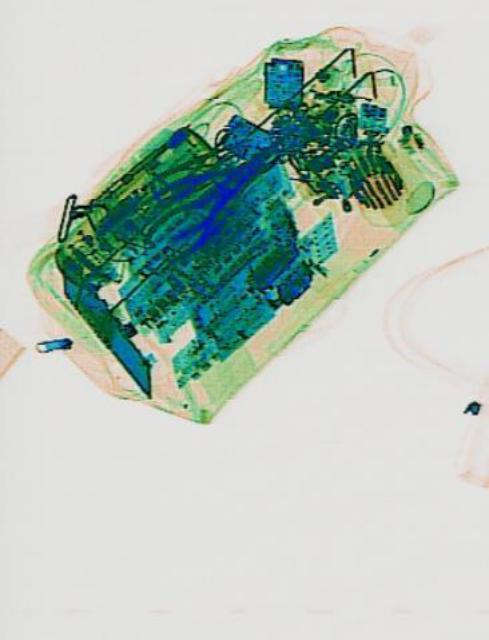Pliers: (138, 130, 277, 272)
